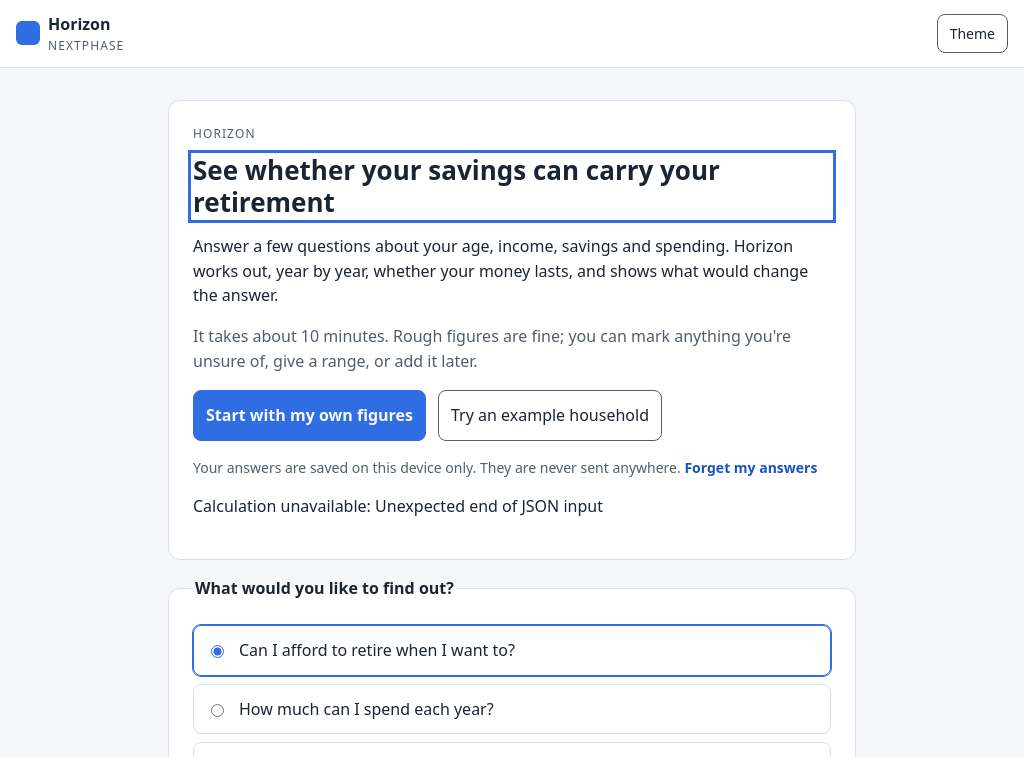
welcomes own figures without coverage labels and starts the first question
This screenshot has width=1024, height=757.
Step 1. Click the button "Start with my own figures" → click(310, 415), box [193,390,426,441]
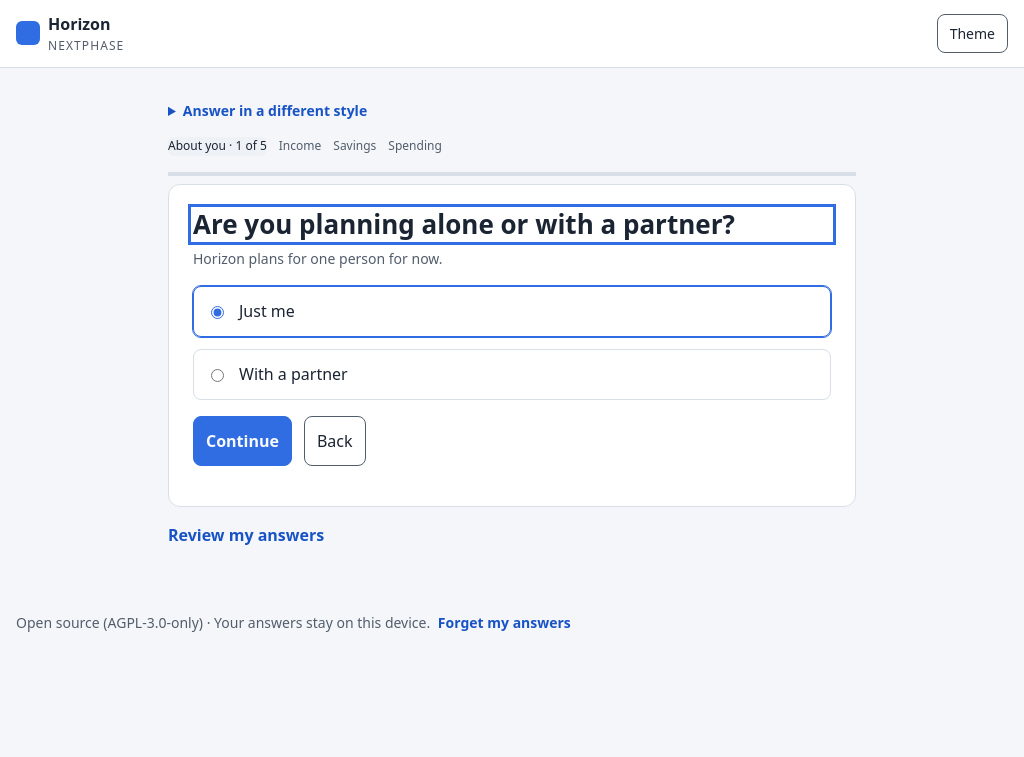
Expected: the heading "Are you planning alone or with a partner?" is shown, [193,206,735,242]
Step 2. Click the button "Continue" → click(242, 441), box [193,416,292,466]
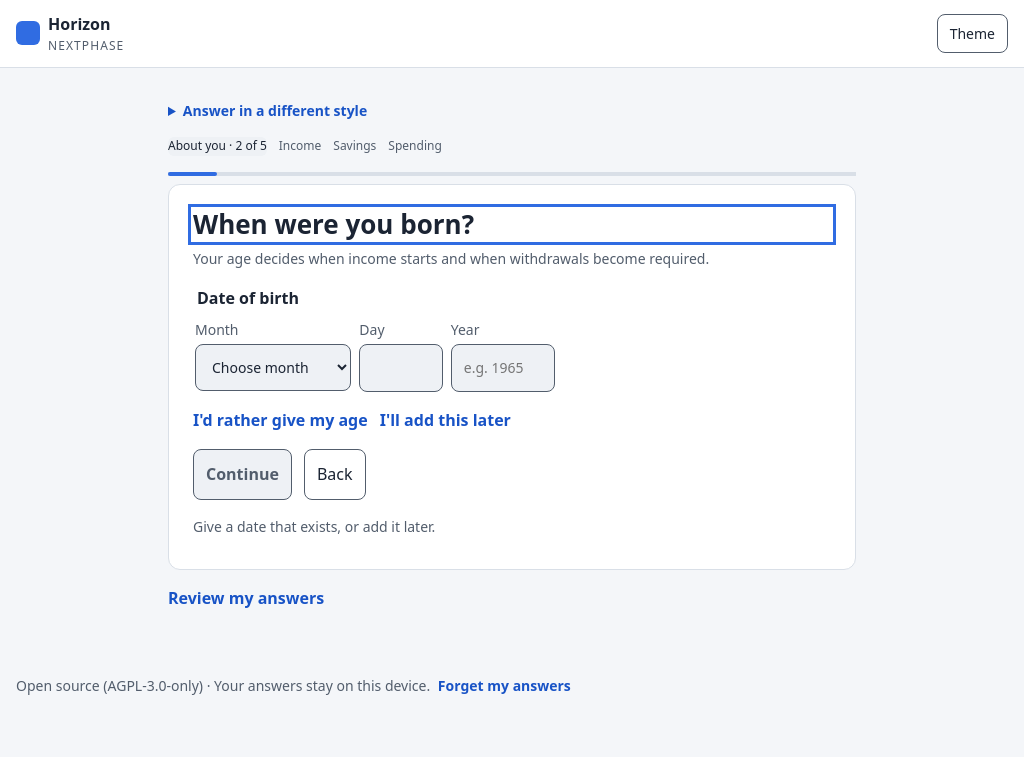
Expected: the heading "When were you born?" is shown, [193,206,474,242]
